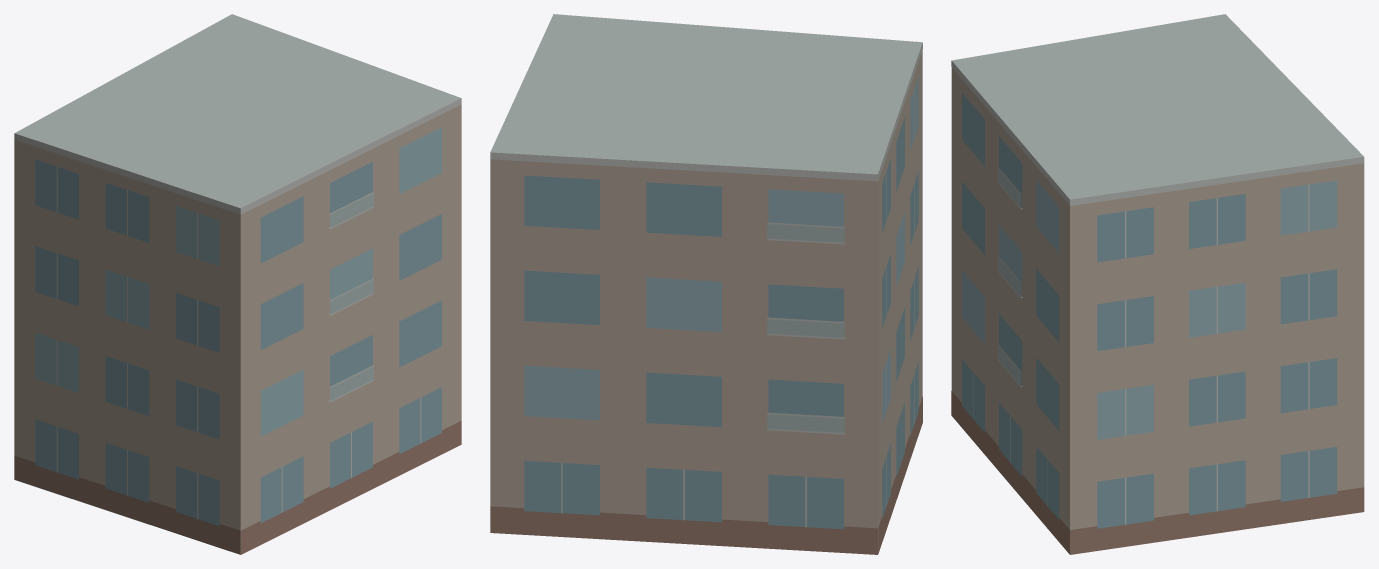
Rendered from survey-upis-32836616.glb.
3 renders of one model, left to right at view 1: azimuth 30°, elevation 25°; view 2: azimuth 150°, elevation 25°; view 3: azimuth 270°, elevation 25°, orthographic. The views are drawn at different scales.
Parts seen in each view (by area): view 1: survey-upis-32836616.tmp; view 2: survey-upis-32836616.tmp; view 3: survey-upis-32836616.tmp.
Part boxes in pixels (<box>): survey-upis-32836616.tmp: <box>14,14,461,554</box>; survey-upis-32836616.tmp: <box>490,14,922,554</box>; survey-upis-32836616.tmp: <box>951,14,1364,554</box>.
Size of the model in its own units: 15.15 by 13.5 by 14.23.
